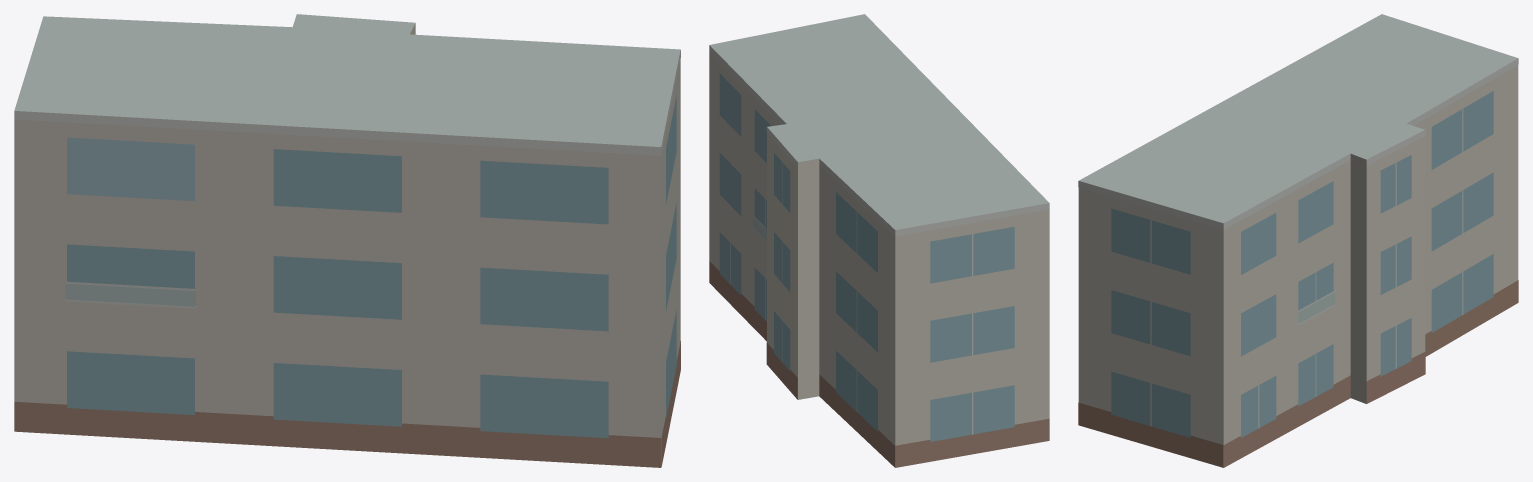
File: survey-upis-32990606.glb
3 renders of one model, left to right at view 1: azimuth 30°, elevation 25°; view 2: azimuth 150°, elevation 25°; view 3: azimuth 270°, elevation 25°, orthographic. The views are drawn at different scales.
Visible parts, largest first — view 1: survey-upis-32990606.tmp; view 2: survey-upis-32990606.tmp; view 3: survey-upis-32990606.tmp.
Boxes of the visible parts, x1=… form: survey-upis-32990606.tmp: x1=14, y1=14, x2=680, y2=467; survey-upis-32990606.tmp: x1=709, y1=14, x2=1049, y2=467; survey-upis-32990606.tmp: x1=1078, y1=14, x2=1518, y2=467.
Bounding box in the file's own units: 16.81 × 9.15 × 14.93.
